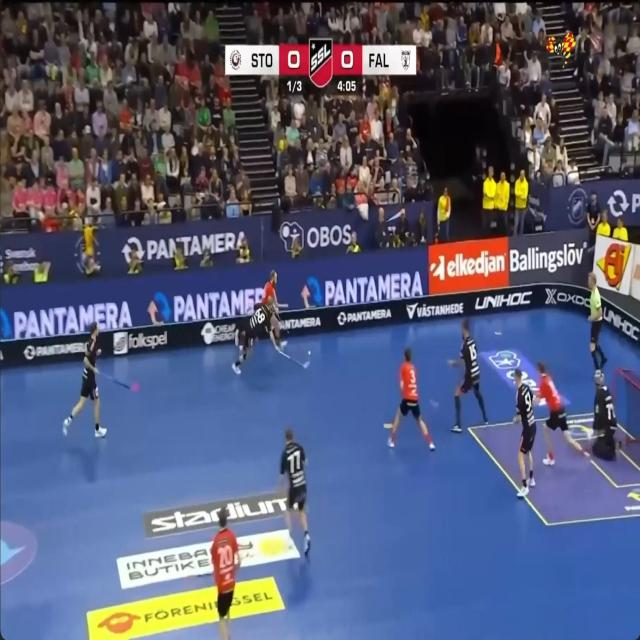Balls: (308, 350, 310, 355)
player: (535, 362, 587, 465), (63, 323, 106, 437), (388, 347, 435, 450), (448, 320, 487, 432), (280, 428, 310, 556), (211, 507, 240, 639), (232, 302, 280, 373), (514, 369, 536, 498), (592, 371, 617, 460), (262, 272, 287, 346), (587, 272, 606, 369)
stick: (98, 371, 139, 390), (276, 350, 309, 368), (429, 399, 439, 406), (278, 303, 289, 309), (384, 422, 392, 428)
